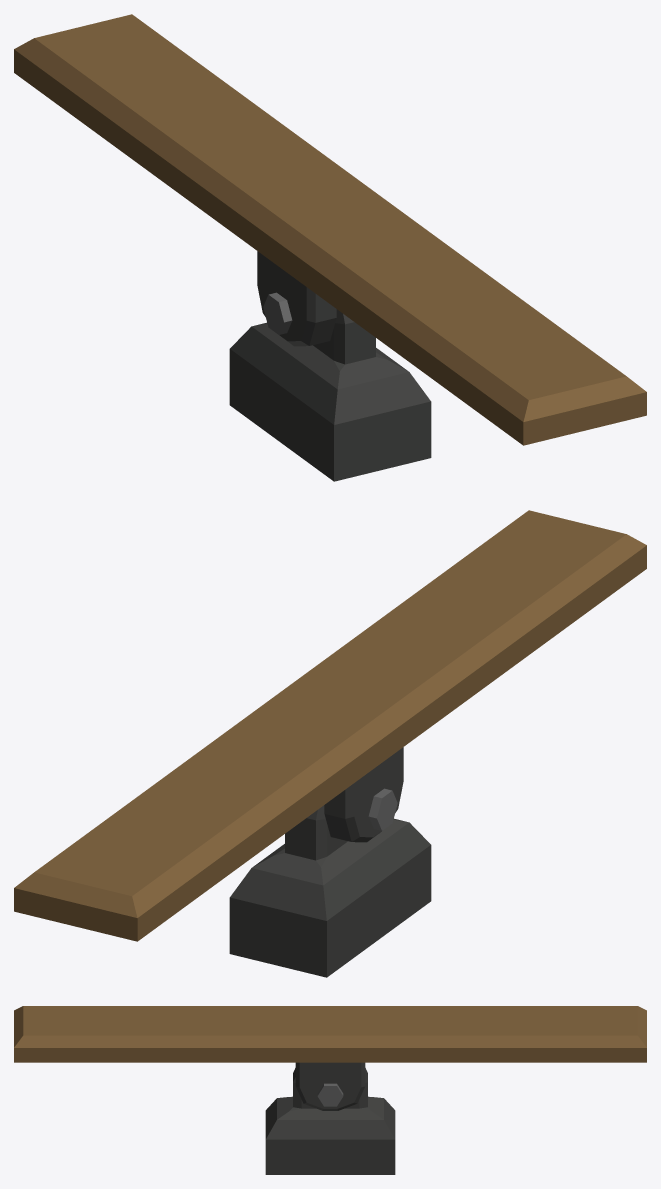
File: HitTheLucasScale.fbx
3 views of the same model, one above another, from view 1: azimuth 30°, elevation 25°; view 2: azimuth 150°, elevation 25°; view 3: azimuth 270°, elevation 25° (orthographic). The views are drawn at different scales.
Parts seen in each view (by area): view 1: RotationThing, Cube.005, Cylinder; view 2: RotationThing, Cube.005, Cylinder; view 3: RotationThing, Cube.005, Cylinder.
Boxes of the visible parts, x1,y1,x2,y2 form: RotationThing: [14, 14, 646, 445]; Cube.005: [229, 309, 431, 481]; Cylinder: [263, 292, 292, 334]; RotationThing: [14, 510, 646, 941]; Cube.005: [229, 805, 431, 977]; Cylinder: [368, 788, 397, 830]; RotationThing: [14, 1006, 646, 1110]; Cube.005: [265, 1068, 395, 1174]; Cylinder: [317, 1083, 343, 1106].
Bounding box in the file's own units: 17.26 × 29.96 × 123.
